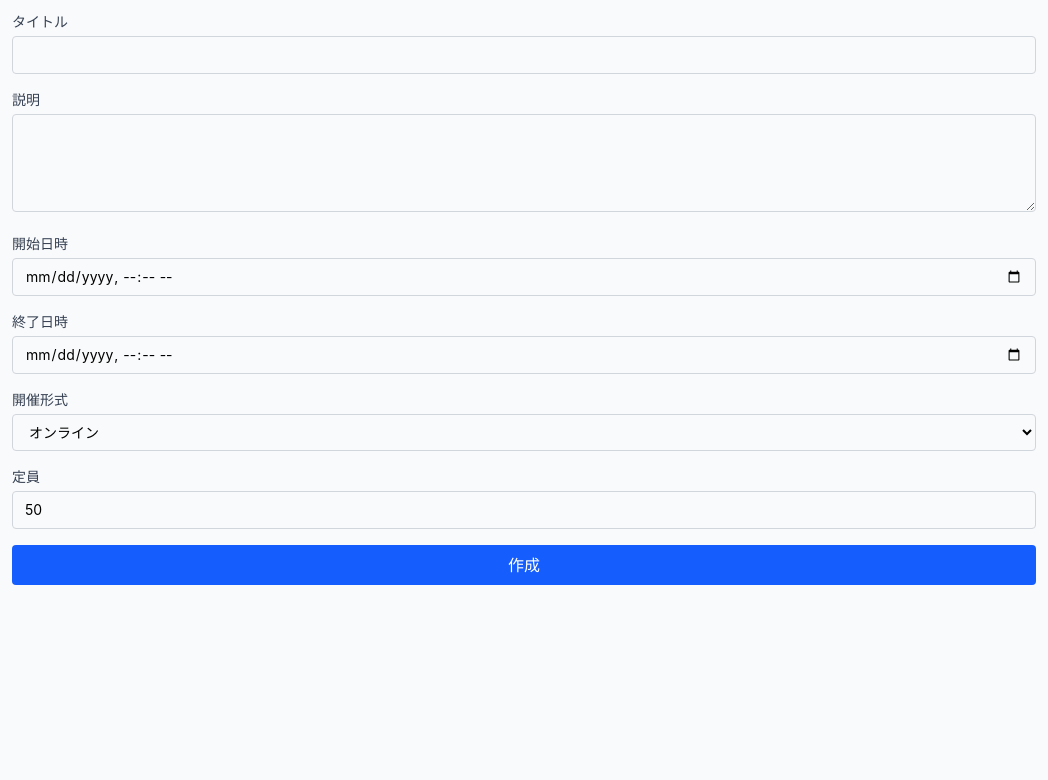
EventCreateForm コンポーネント › タイトルが未入力で送信するとバリデーションエラーを表示する
Step 1. Click the button "作成" → (524, 565), box x1=12 y1=545 x2=1036 y2=585
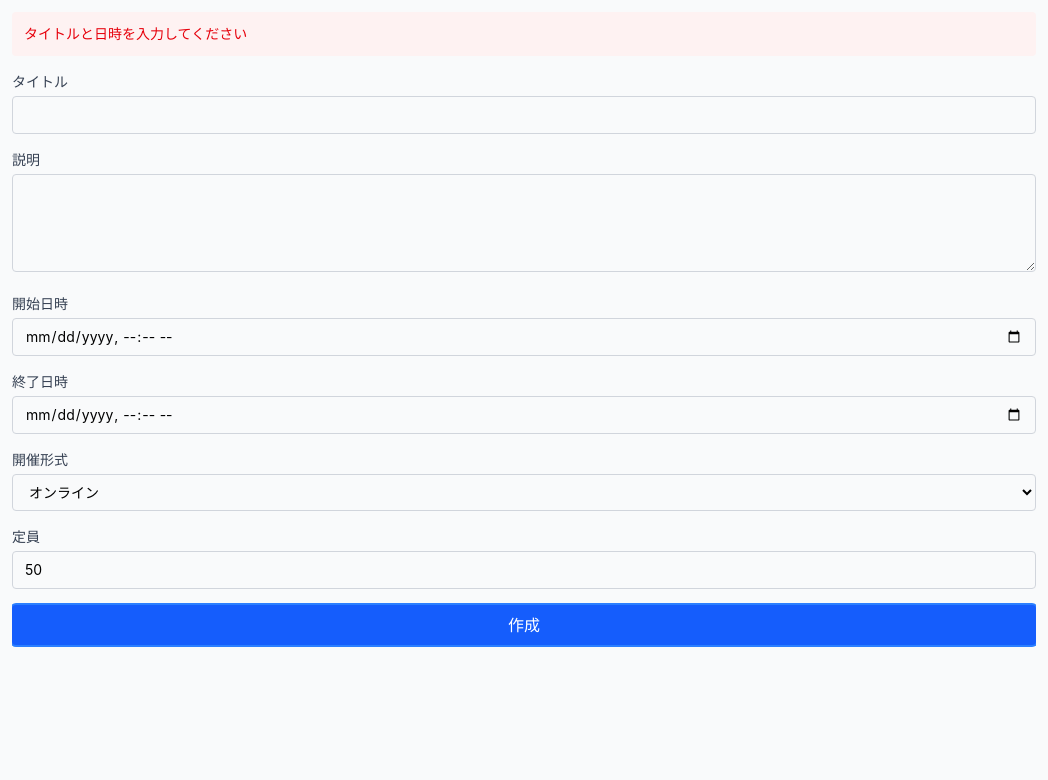
Check: the message reads "タイトルと日時を入力してください", box x1=24 y1=25 x2=247 y2=42
